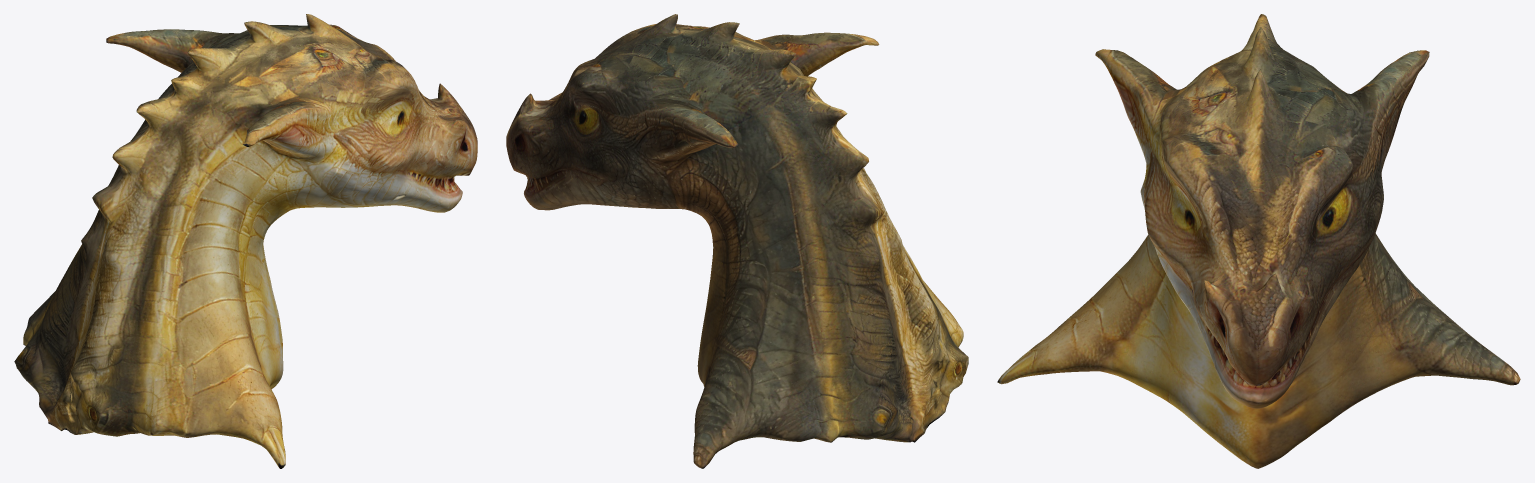
Rendered from dinasaur.glb.
3 renders of one model, left to right at view 1: azimuth 30°, elevation 25°; view 2: azimuth 150°, elevation 25°; view 3: azimuth 270°, elevation 25°, orthographic. The views are drawn at different scales.
Bounding box in the file's own units: 1.2 × 1.02 × 1.13.
1 material, 1 textured.
